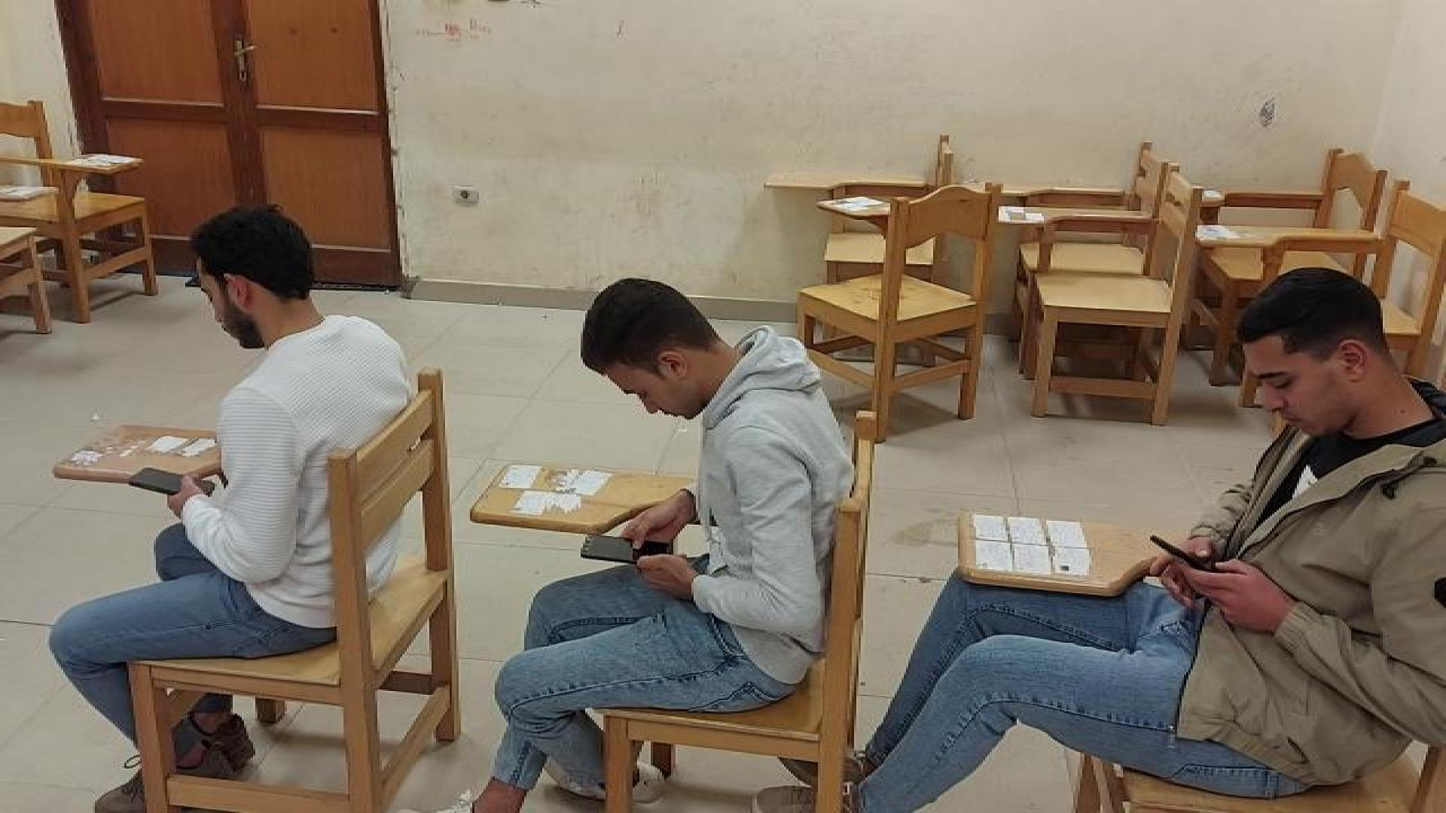phone: (569, 531, 678, 572), (122, 463, 219, 507)
